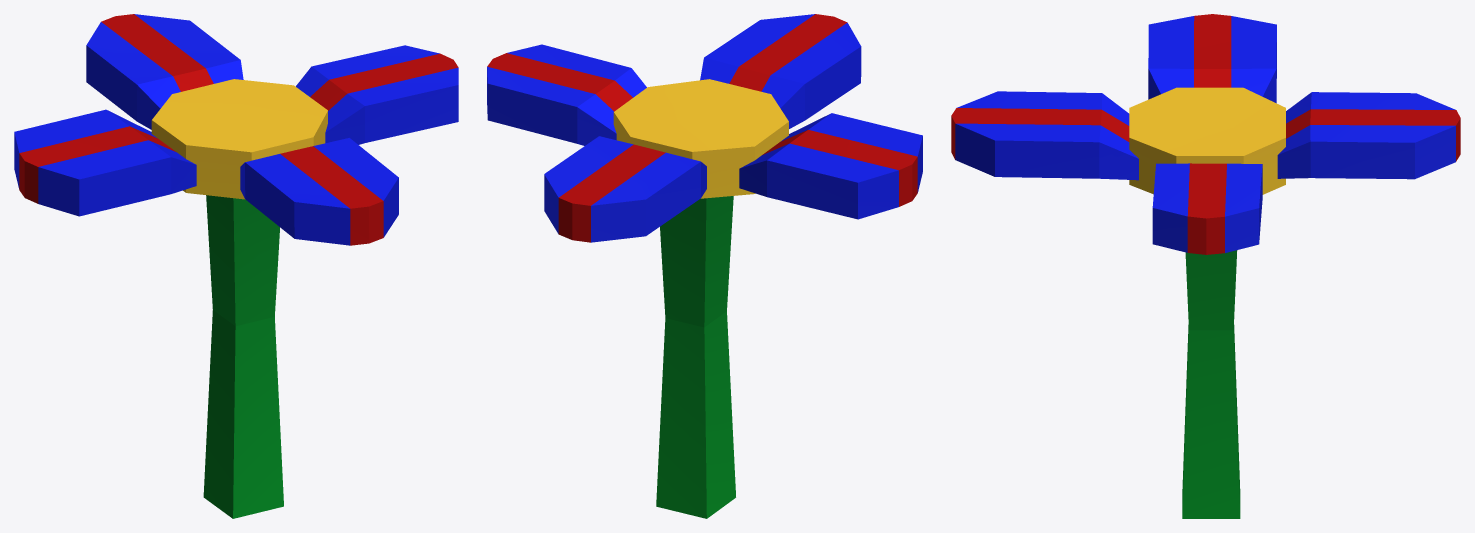
Rendered from Flor6.fbx.
3 views of the same model, side by side, from view 1: azimuth 30°, elevation 25°; view 2: azimuth 150°, elevation 25°; view 3: azimuth 270°, elevation 25° (orthographic).
Parts seen in each view (by area): view 1: Flor6; view 2: Flor6; view 3: Flor6.
Boxes of the visible parts, x1=… form: Flor6: x1=14, y1=14, x2=458, y2=518; Flor6: x1=487, y1=14, x2=922, y2=518; Flor6: x1=951, y1=14, x2=1460, y2=518.
Size of the model in its own units: 1666 by 1754 by 1474.
